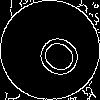O: (25, 25, 86, 83)
